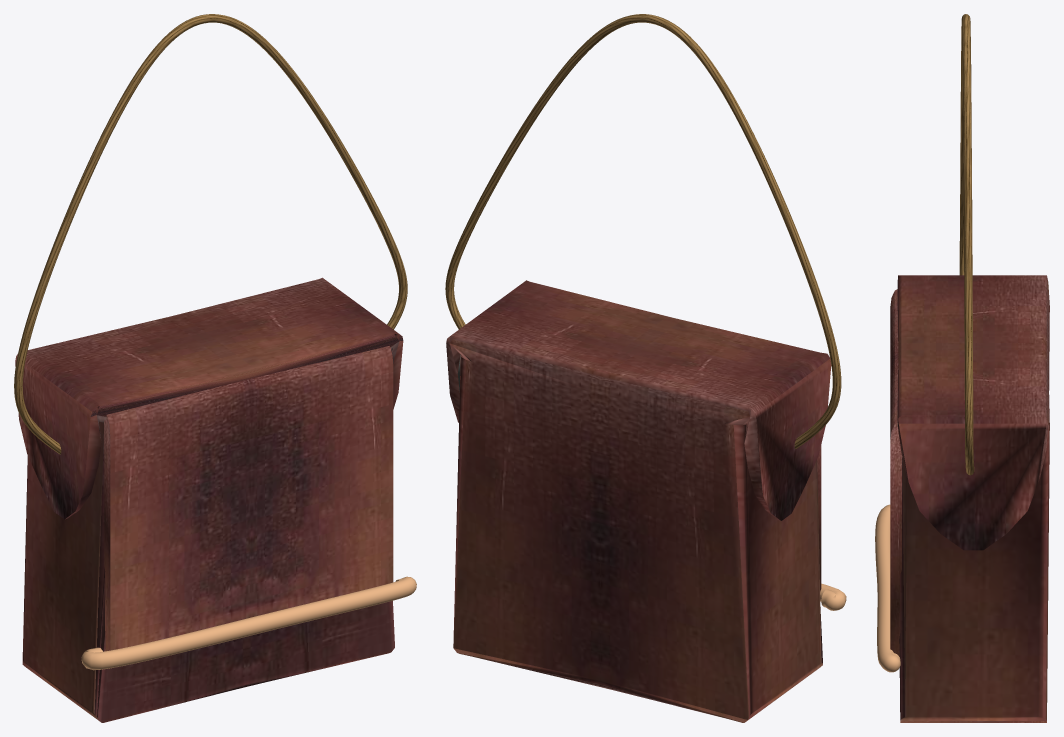
Rendered from lopalopa.fbx.
The picture shows the model from 3 angles, left to right: view 1: azimuth 30°, elevation 25°; view 2: azimuth 150°, elevation 25°; view 3: azimuth 270°, elevation 25°; orthographic projection. The views are drawn at different scales.
Visible parts, largest first — view 1: tas, NurbsPath, tali1; view 2: tas, NurbsPath; view 3: tas, NurbsPath, tali1.
Part boxes in pixels (x1=…): tas: x1=15, y1=277, x2=403, y2=722; NurbsPath: x1=14, y1=14, x2=407, y2=454; tali1: x1=81, y1=576, x2=416, y2=670; tas: x1=446, y1=280, x2=831, y2=722; NurbsPath: x1=445, y1=14, x2=841, y2=448; tas: x1=890, y1=275, x2=1049, y2=722; NurbsPath: x1=959, y1=14, x2=974, y2=475; tali1: x1=875, y1=504, x2=900, y2=672.
Size of the model in its own units: 264 by 415 by 104.
